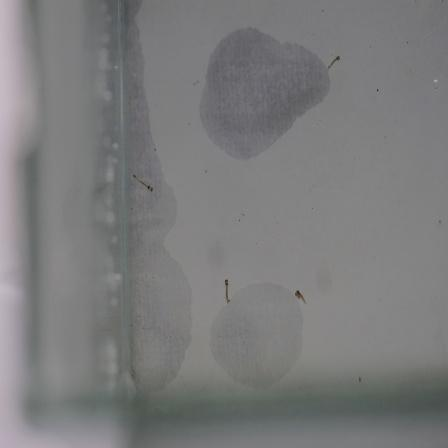Jentik-Nyamuk: (131, 169, 157, 199), (290, 283, 314, 313), (217, 274, 235, 309), (323, 51, 346, 77)
